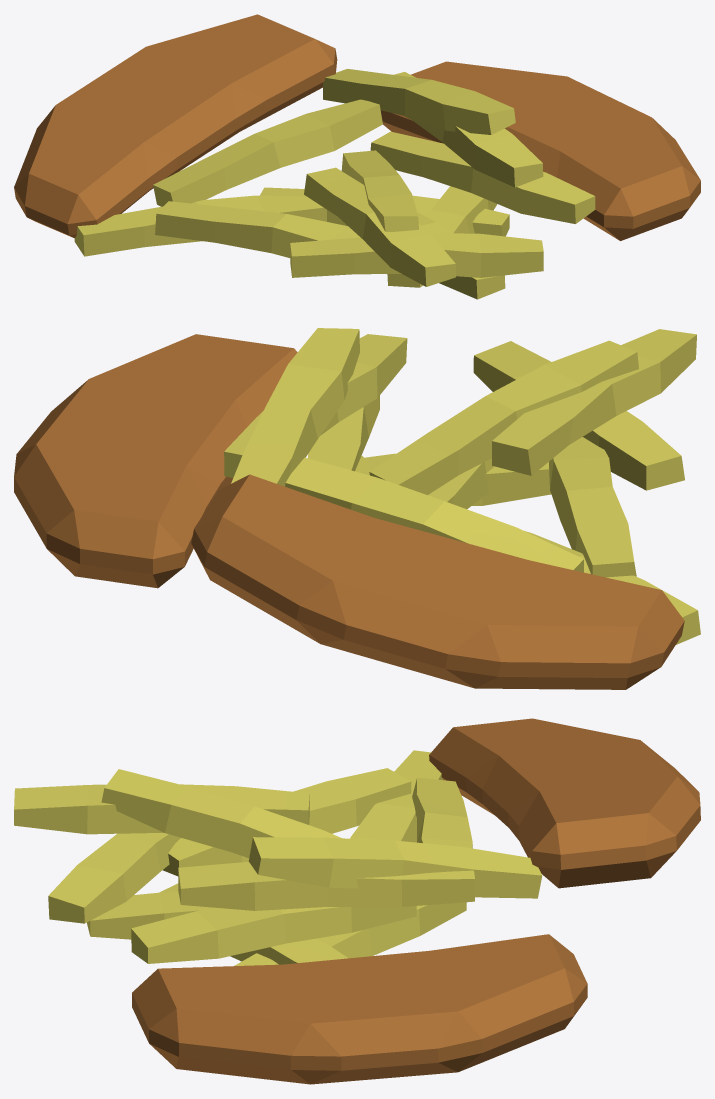
The model's file is FishChips.fbx.
The picture shows the model from 3 angles, top to bottom: view 1: azimuth 30°, elevation 25°; view 2: azimuth 150°, elevation 25°; view 3: azimuth 270°, elevation 25°; orthographic projection. The views are drawn at different scales.
Parts seen in each view (by area): view 1: Chips, Fish; view 2: Fish, Chips; view 3: Fish, Chips.
Boxes of the visible parts, x1,y1,x2,y2 form: Chips: (74, 69, 595, 299); Fish: (14, 14, 700, 240); Fish: (14, 334, 684, 689); Chips: (224, 328, 700, 644); Fish: (132, 718, 700, 1084); Chips: (14, 750, 542, 965).
Bounding box in the file's own units: 1.53 × 0.3408 × 1.4.
